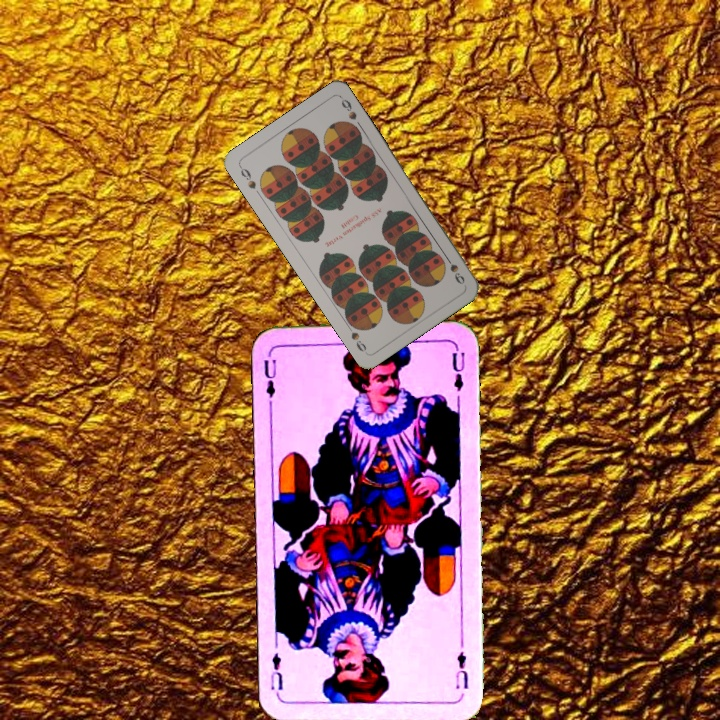EU: (260, 355, 279, 408), (452, 647, 471, 692)
S9: (440, 251, 467, 287), (235, 162, 259, 192)
